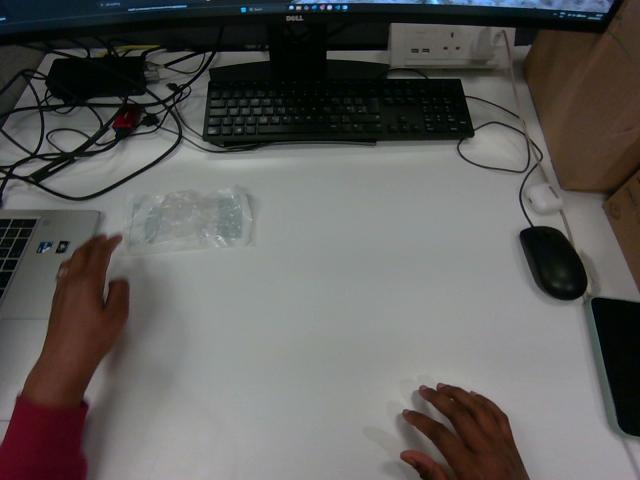gallipot: (124, 186, 251, 253)
